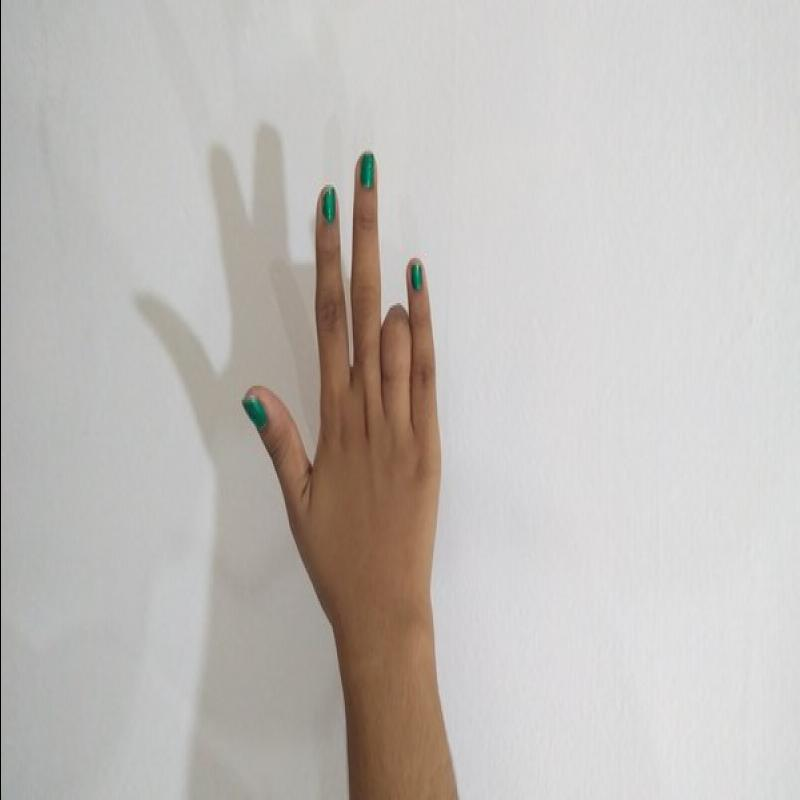Pathaaka: (235, 114, 468, 698)
